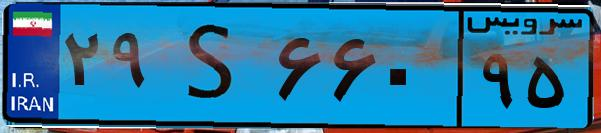0: (385, 28, 445, 110)
2: (57, 26, 110, 100)
5: (525, 38, 570, 115)
6: (270, 28, 330, 110), (330, 28, 385, 110)
9: (475, 38, 525, 113), (110, 28, 158, 98)
S: (158, 12, 270, 120)
